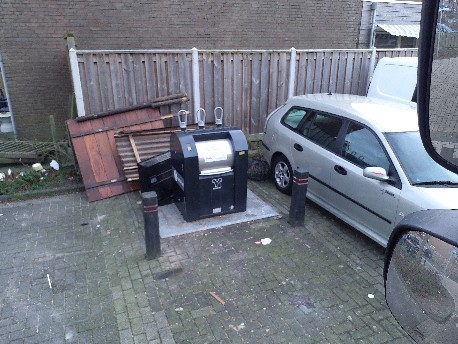Container: (181, 128, 280, 217)
Rest: (71, 109, 156, 202), (100, 110, 162, 162), (133, 145, 168, 191)
Voertuig: (274, 80, 458, 237)
